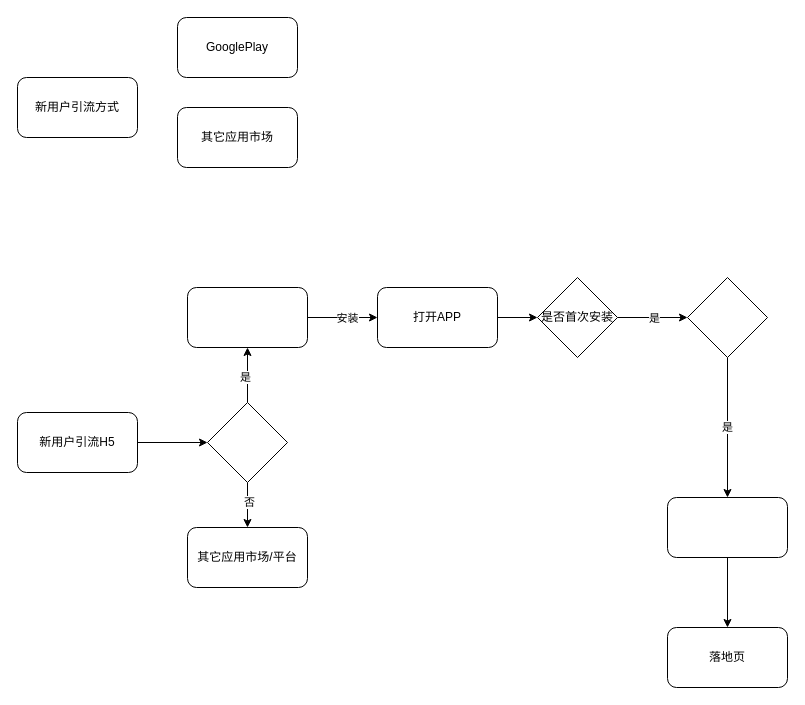
Some shapes in this 805 by 705 pixel diagram are drawn without their labels. The shapes that lost their labels are listed below. From the top down, each one's centre as x and y in pixels, then its label:
At pixel 247 317: "GooglePlay 应用市场".
At pixel 727 317: "是否需要跳转落地页".
At pixel 247 442: "是否GooglePlay".
At pixel 727 527: "解析协议".
